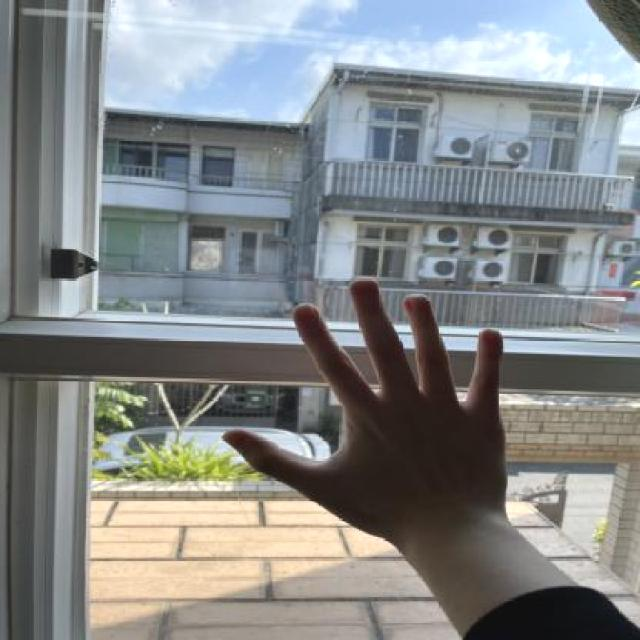no_glove: (218, 268, 524, 546)
